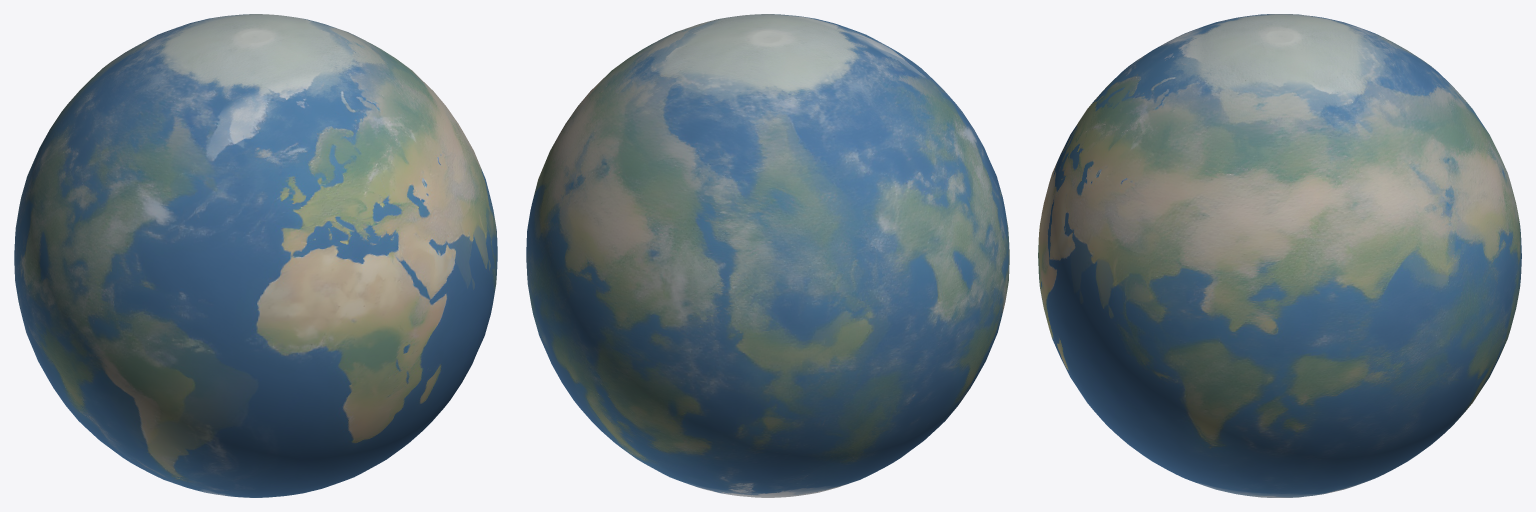
The model's file is earth.glb.
3 renders of one model, left to right at view 1: azimuth 30°, elevation 25°; view 2: azimuth 150°, elevation 25°; view 3: azimuth 270°, elevation 25°, orthographic.
Visible parts, largest first — view 1: Earth; view 2: Earth; view 3: Earth.
Boxes of the visible parts, <box> form: Earth: <box>14,14,497,497</box>; Earth: <box>526,14,1009,497</box>; Earth: <box>1038,14,1521,497</box>.
Size of the model in its own units: 0.998 by 0.998 by 0.998.
Materials: 1 (1 with a texture image).
